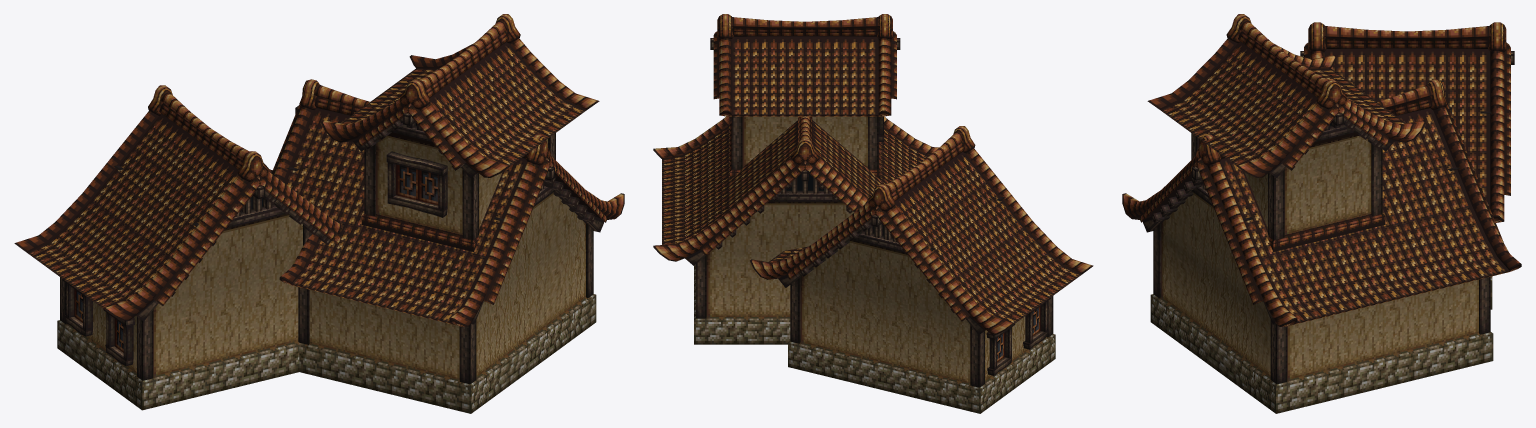
File: EnvBdgMD_Desert_A_Outdoor_House_E.FBX
The picture shows the model from 3 angles, left to right: view 1: azimuth 30°, elevation 25°; view 2: azimuth 150°, elevation 25°; view 3: azimuth 270°, elevation 25°; orthographic projection. The views are drawn at different scales.
Visible parts, largest first — view 1: EnvBdgMD_Desert_A_Outdoor_House_E; view 2: EnvBdgMD_Desert_A_Outdoor_House_E; view 3: EnvBdgMD_Desert_A_Outdoor_House_E.
Part boxes in pixels (bbox=[...]): EnvBdgMD_Desert_A_Outdoor_House_E: bbox=[14, 14, 624, 413]; EnvBdgMD_Desert_A_Outdoor_House_E: bbox=[653, 14, 1093, 413]; EnvBdgMD_Desert_A_Outdoor_House_E: bbox=[1122, 14, 1521, 413].
Bounding box in the file's own units: 1451 × 824 × 987.
